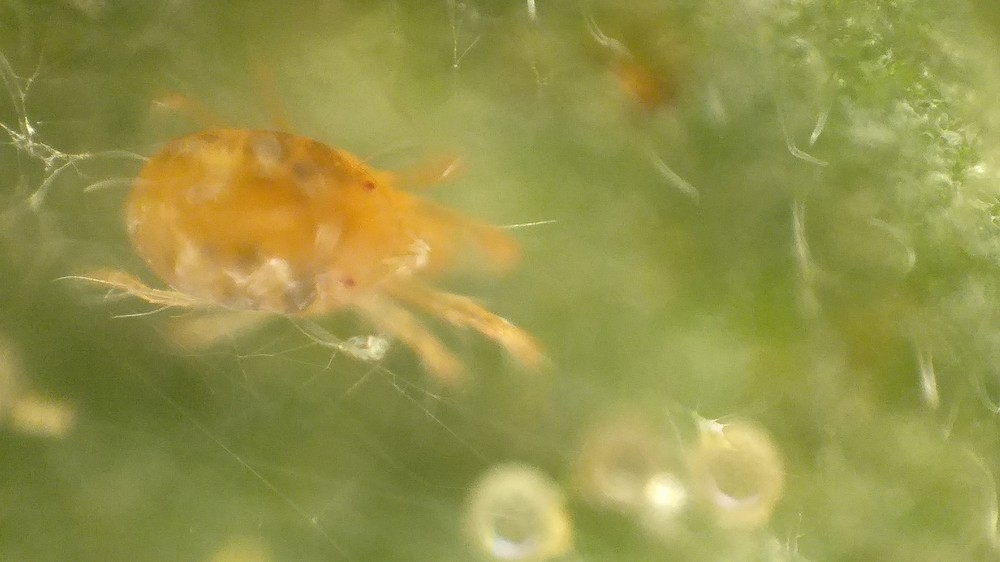Aracnido Rojo: (92, 83, 568, 401)
